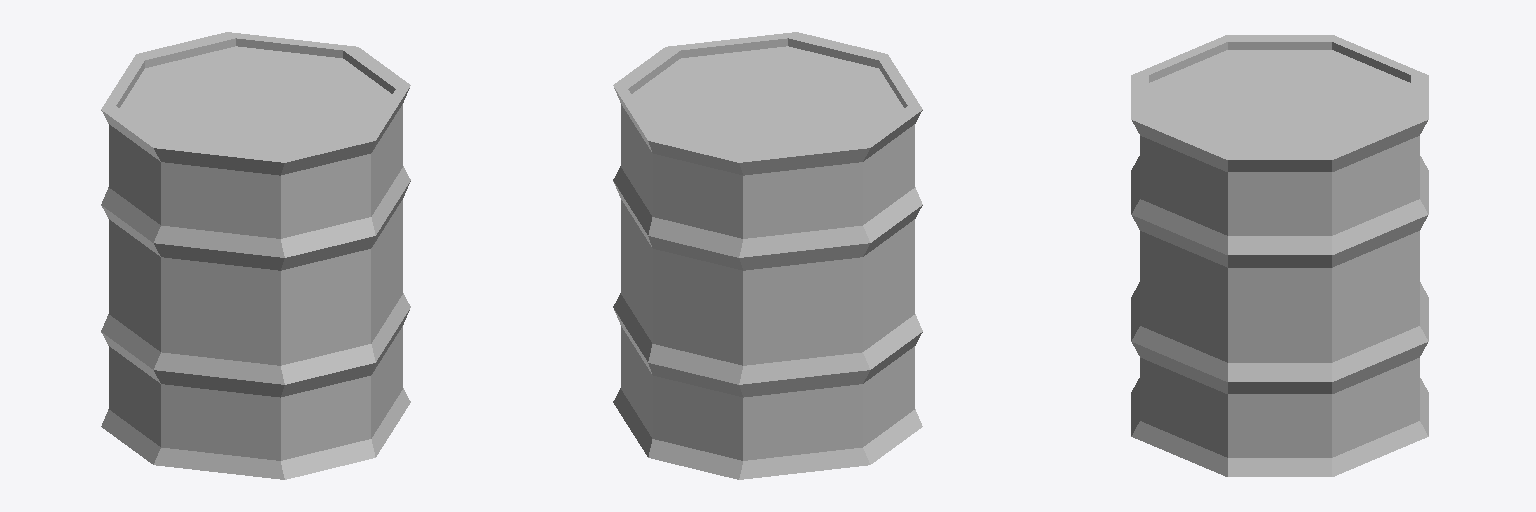
The model's file is metal_barrel.obj.
The picture shows the model from 3 angles: view 1: azimuth 30°, elevation 25°; view 2: azimuth 150°, elevation 25°; view 3: azimuth 270°, elevation 25°; orthographic projection.
Parts seen in each view (by area): view 1: Cube_Cube.001; view 2: Cube_Cube.001; view 3: Cube_Cube.001.
Part boxes in pixels (left/top/right/bottom): Cube_Cube.001: left=101, top=32, right=410, bottom=479; Cube_Cube.001: left=613, top=32, right=922, bottom=479; Cube_Cube.001: left=1131, top=35, right=1428, bottom=476.
Size of the model in its own units: 0.85 by 1 by 0.85.